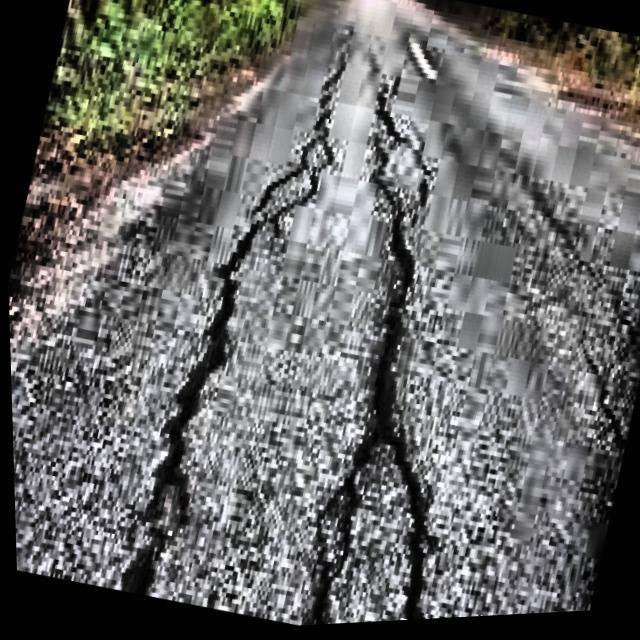cracks: (117, 137, 319, 596), (366, 215, 428, 624), (310, 453, 366, 613)
